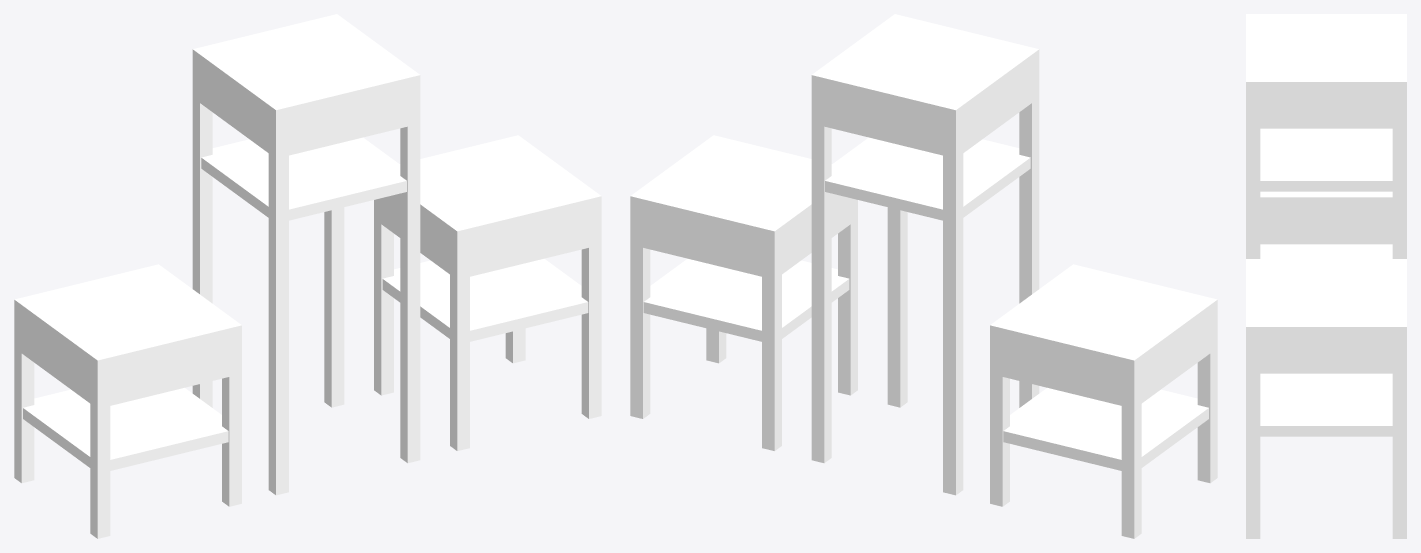
File: EndTable2.glb
The picture shows the model from 3 angles, left to right: view 1: azimuth 30°, elevation 25°; view 2: azimuth 150°, elevation 25°; view 3: azimuth 270°, elevation 25°; orthographic projection. The views are drawn at different scales.
Parts seen in each view (by area): view 1: EndTable2; view 2: EndTable2; view 3: EndTable2.
Boxes of the visible parts, <box> form: EndTable2: <box>14,14,601,538</box>; EndTable2: <box>630,14,1217,538</box>; EndTable2: <box>1246,14,1406,538</box>.
Size of what is drawn, in the model's own units: 1.78 by 1.3 by 0.5101.
Materials: 1 (1 with a texture image).
